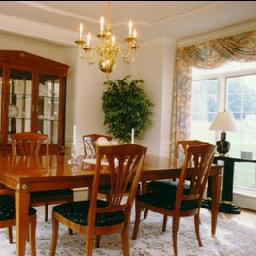Ventana: (197, 81, 255, 151)
